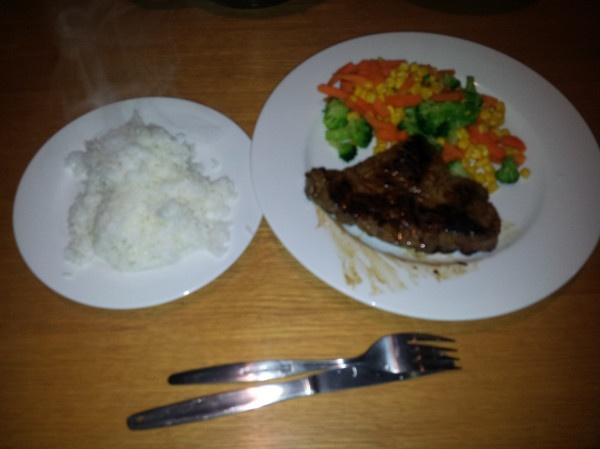rice: (66, 114, 238, 270)
